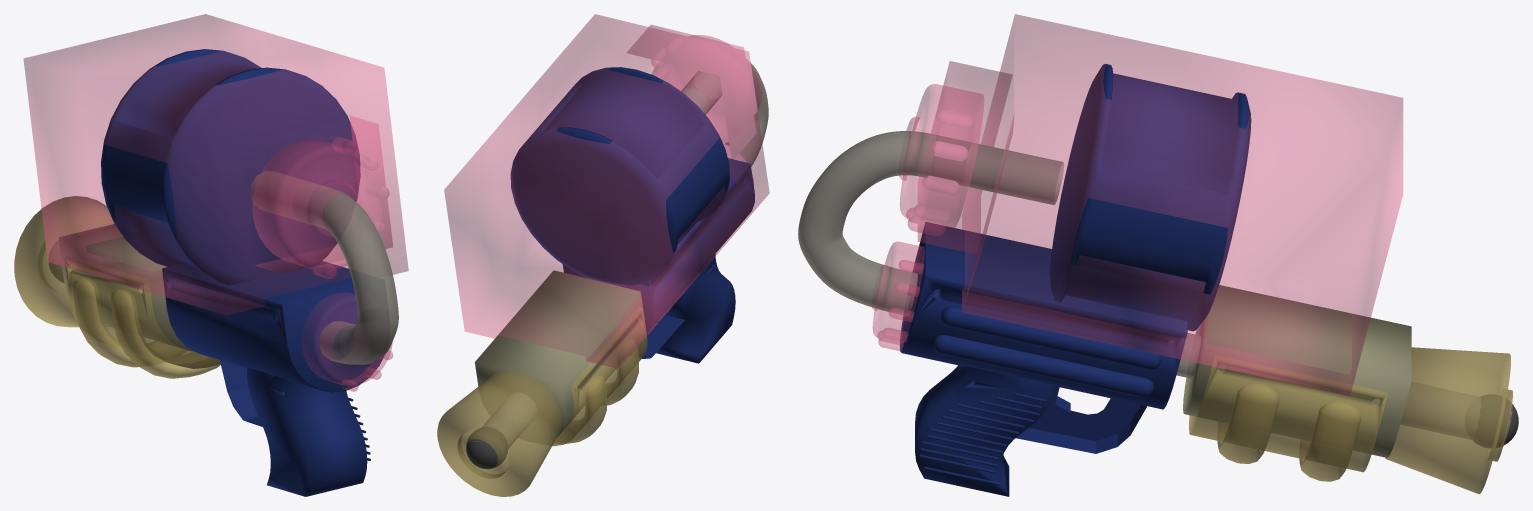
File: s-shooter.glb
3 views of the same model, side by side, from view 1: azimuth 30°, elevation 25°; view 2: azimuth 150°, elevation 25°; view 3: azimuth 270°, elevation 25° (orthographic). The views are drawn at different scales.
Visible parts, largest first — view 1: 立方体.007, 円柱.003, 立方体, ベジエカーブ, 円柱.002, 立方体.006, 立方体.002, 立方体.001, 円柱, 円柱.001, 立方体.004, 立方体.003 (+1 smaller); view 2: 立方体.007, 円柱.003, 立方体.001, 円柱, 立方体, 立方体.006, 立方体.002, ベジエカーブ, 円柱.002, 立方体.003, 球.016, 立方体.004 (+1 smaller); view 3: 立方体.007, 円柱.003, 立方体.001, 立方体, ベジエカーブ, 立方体.002, 円柱, 立方体.006, 円柱.002, 球, 球.001, 平面 (+4 smaller).
Part boxes in pixels (bbox=[...]): 立方体.007: bbox=[23, 14, 408, 315]; 円柱.003: bbox=[101, 49, 360, 284]; 立方体: bbox=[162, 261, 384, 392]; ベジエカーブ: bbox=[250, 171, 398, 364]; 円柱.002: bbox=[252, 139, 384, 270]; 立方体.006: bbox=[247, 367, 367, 496]; 立方体.002: bbox=[64, 256, 220, 368]; 立方体.001: bbox=[58, 224, 194, 351]; 円柱: bbox=[14, 196, 113, 327]; 円柱.001: bbox=[302, 293, 392, 385]; 立方体.004: bbox=[111, 289, 220, 378]; 立方体.003: bbox=[73, 278, 170, 367]; 立方体.007: bbox=[444, 14, 769, 368]; 円柱.003: bbox=[510, 67, 729, 285]; 立方体.001: bbox=[475, 270, 644, 442]; 円柱: bbox=[437, 370, 562, 496]; 立方体: bbox=[562, 158, 754, 333]; 立方体.006: bbox=[656, 254, 735, 363]; 立方体.002: bbox=[552, 307, 647, 446]; ベジエカーブ: bbox=[465, 62, 768, 468]; 円柱.002: bbox=[652, 35, 761, 143]; 立方体.003: bbox=[560, 374, 606, 443]; 球.016: bbox=[466, 427, 507, 469]; 立方体.004: bbox=[606, 338, 638, 405]; 立方体.007: bbox=[918, 14, 1402, 395]; 円柱.003: bbox=[1050, 63, 1251, 331]; 立方体.001: bbox=[1183, 285, 1411, 457]; 立方体: bbox=[899, 222, 1187, 409]; ベジエカーブ: bbox=[798, 131, 1512, 446]; 立方体.002: bbox=[1189, 355, 1387, 472]; 円柱: bbox=[1385, 347, 1512, 493]; 立方体.006: bbox=[915, 365, 1052, 496]; 円柱.002: bbox=[899, 84, 983, 227]; 球: bbox=[941, 306, 1161, 370]; 球.001: bbox=[933, 334, 1153, 397]; 平面: bbox=[1016, 398, 1146, 453].
Bounding box in the file's own units: 1.1 × 2.12 × 3.25.
